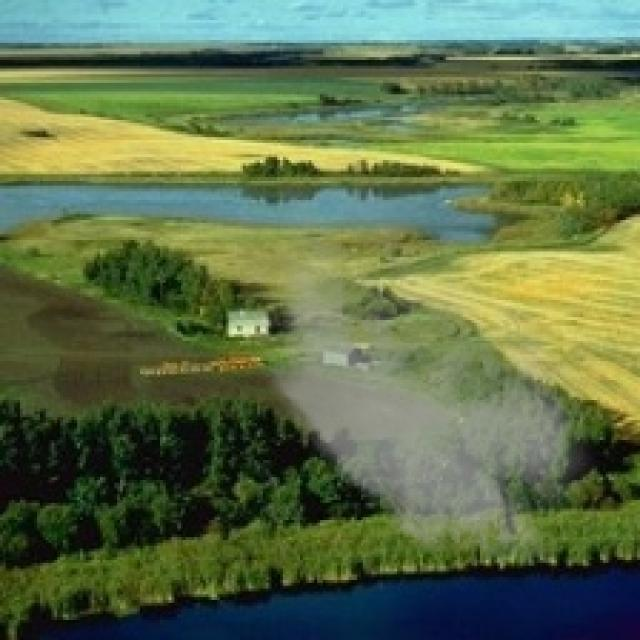Smoke: (228, 180, 612, 577)
